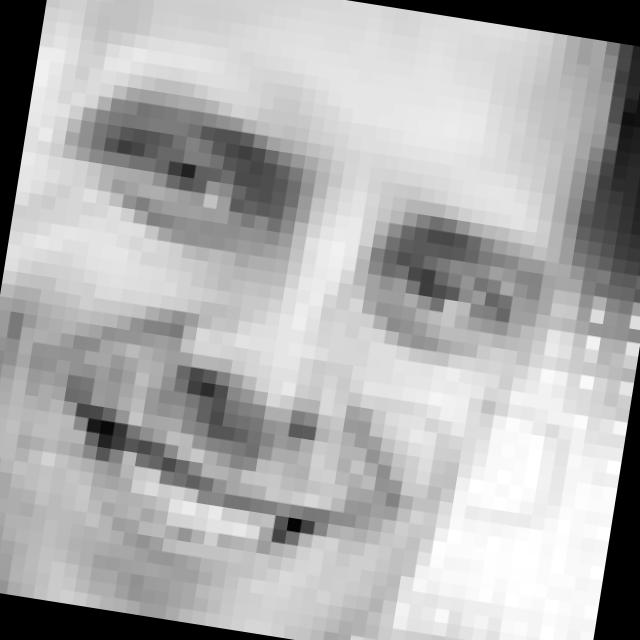happy: (0, 73, 561, 632)
